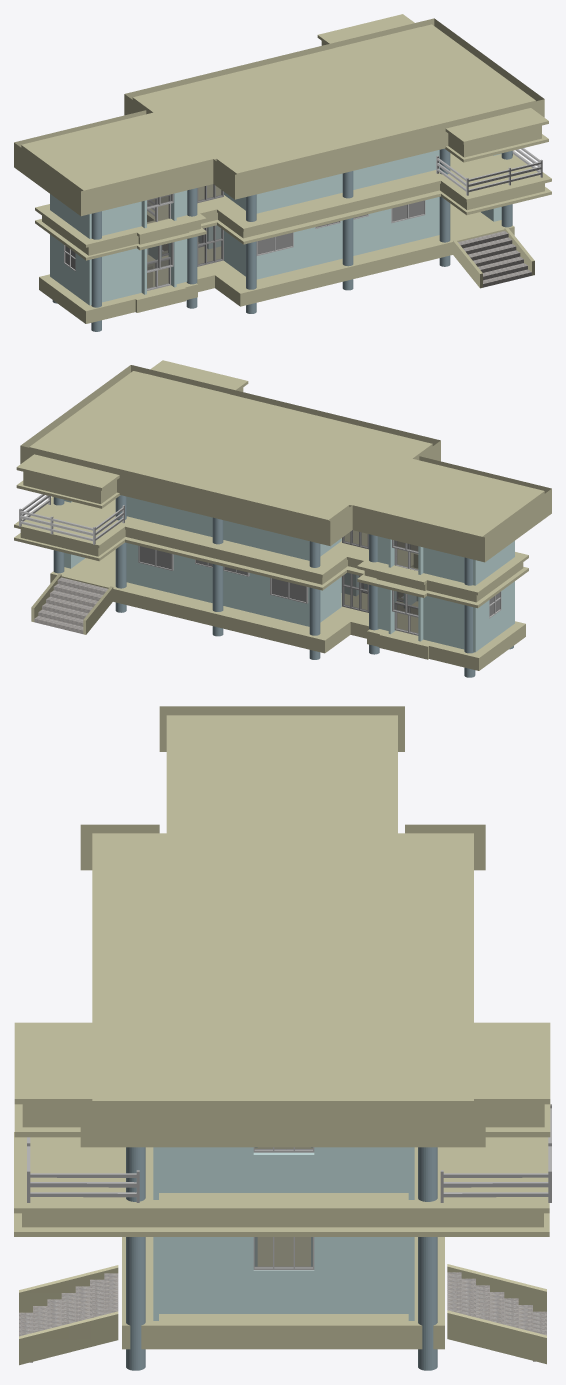
File: LH_Baked.fbx
3 views of the same model, one above another, from view 1: azimuth 30°, elevation 25°; view 2: azimuth 150°, elevation 25°; view 3: azimuth 270°, elevation 25° (orthographic). The views are drawn at different scales.
Parts seen in each view (by area): view 1: obj70, obj69, obj1, obj41, obj29, obj2, obj66, obj30, obj42, obj61, obj43, obj64 (+7 smaller); view 2: obj70, obj69, obj1, obj41, obj29, obj66, obj2, obj30, obj42, obj43, obj63, obj64 (+7 smaller); view 3: obj70, obj1, obj29, obj69, obj66, obj41, obj2, obj60, obj62, obj64, obj61, obj63 (+1 smaller).
Boxes of the visible parts, box(x1,y1,x2,y2) form: obj70: box(21, 24, 535, 191); obj69: box(14, 18, 544, 216); obj1: box(35, 153, 551, 260); obj41: box(39, 203, 514, 323); obj29: box(198, 153, 501, 279); obj2: box(52, 148, 512, 331); obj66: box(317, 14, 548, 162); obj30: box(50, 234, 187, 305); obj42: box(224, 150, 439, 213); obj61: box(458, 231, 531, 287); obj43: box(50, 190, 187, 238); obj64: box(436, 148, 542, 195); obj70: box(29, 371, 544, 537); obj69: box(20, 365, 551, 562); obj1: box(14, 496, 528, 608); obj41: box(50, 549, 525, 670); obj29: box(64, 499, 367, 626); obj66: box(16, 360, 248, 508); obj2: box(53, 495, 513, 677); obj30: box(377, 581, 514, 652); obj42: box(126, 496, 341, 560); obj43: box(377, 536, 514, 585); obj63: box(34, 577, 107, 633); obj64: box(19, 494, 124, 544); obj70: box(92, 715, 473, 1101); obj1: box(14, 1132, 549, 1236); obj29: box(153, 1147, 414, 1320); obj69: box(80, 706, 485, 1147); obj66: box(14, 1022, 550, 1137); obj41: box(122, 1237, 444, 1349); obj2: box(126, 1147, 437, 1370); obj60: box(19, 1265, 118, 1365); obj62: box(447, 1264, 546, 1364); obj64: box(27, 1104, 551, 1202); obj61: box(19, 1273, 118, 1362); obj63: box(447, 1272, 546, 1361).
Size of the model in its own units: 2330 by 790 by 1339.
Materials: 9 (1 with a texture image).
